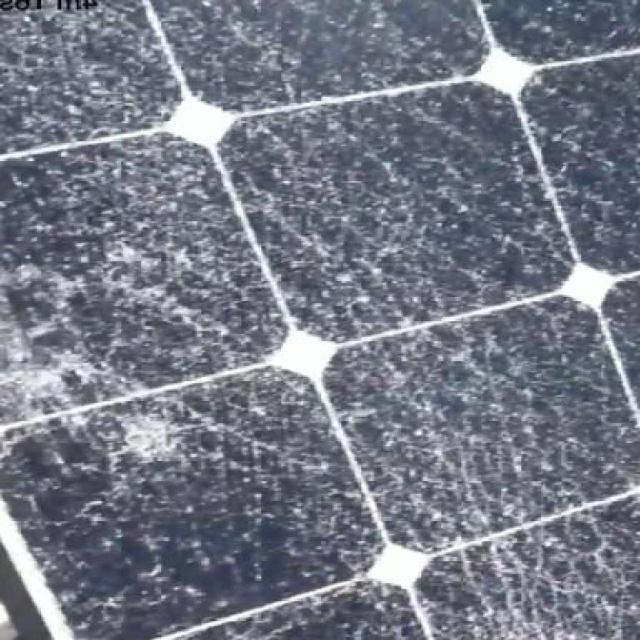cracked: (4, 1, 635, 640)
